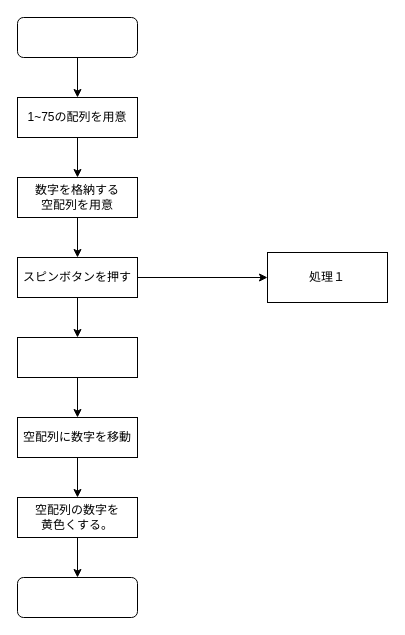
The diagram is 405 pixels wide and 635 high, and some of its shapes have lost their labels. Each missing label, with the centre of its shape:
"終了" goes at pixel 77 597.
"配列１−75の数字を ランダムに出力" goes at pixel 77 357.
"開始" goes at pixel 77 37.
